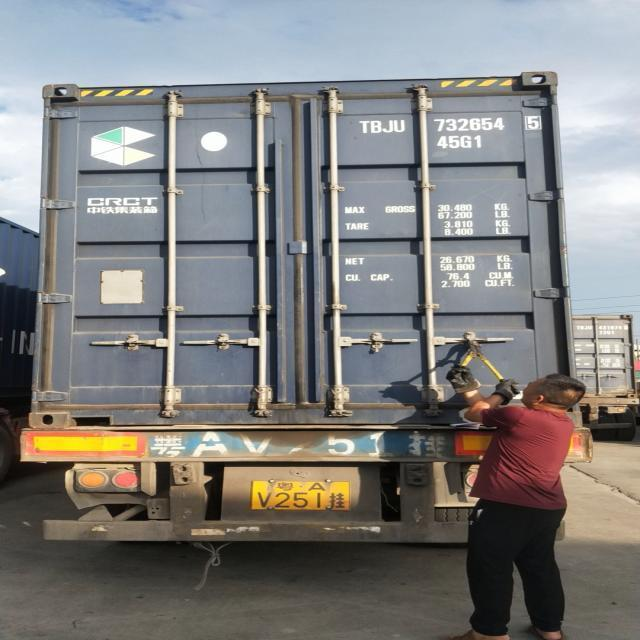ISO: (438, 132, 488, 152)
container_number: (361, 115, 543, 135)
